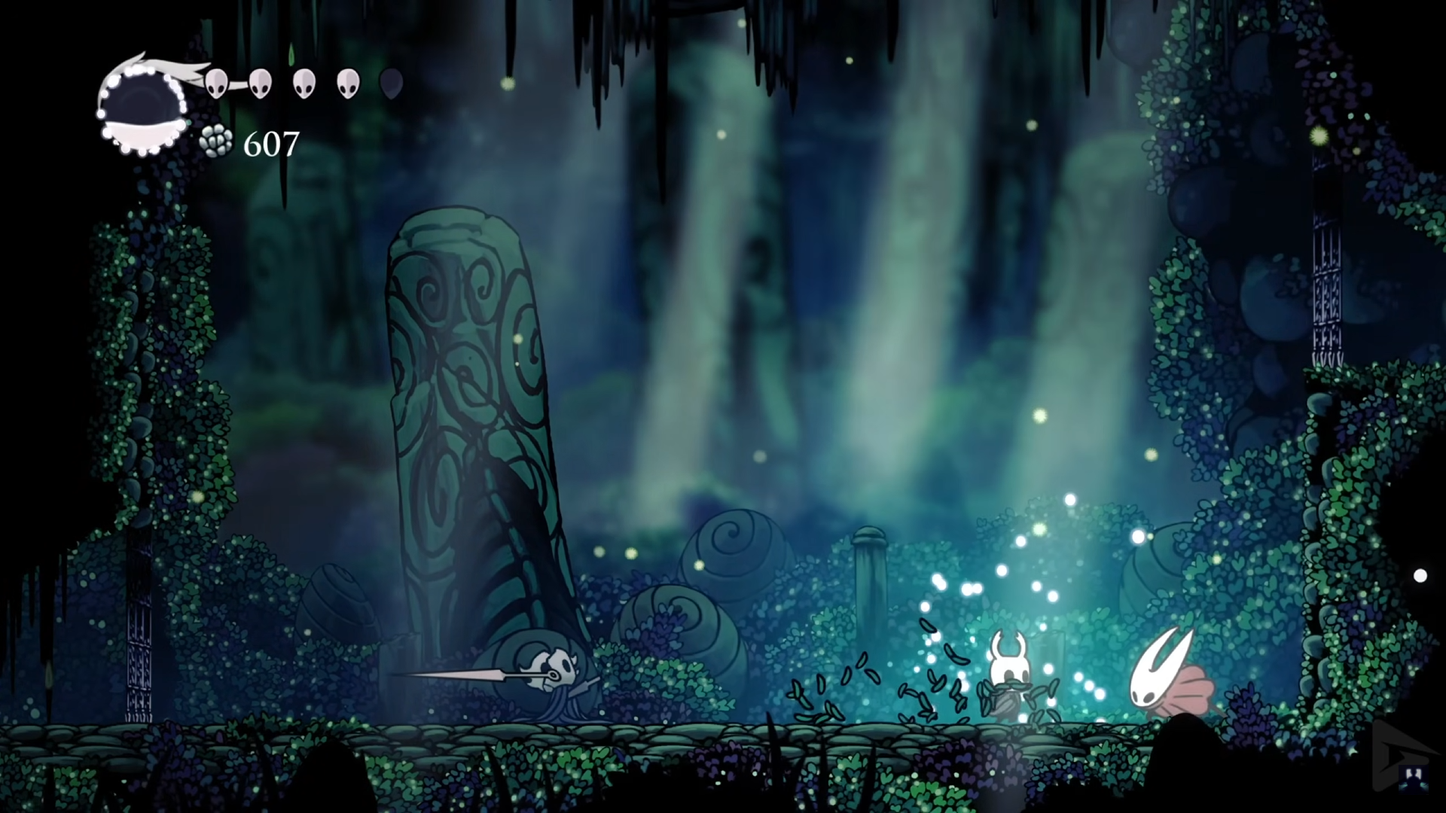HK: (981, 627, 1039, 723)
